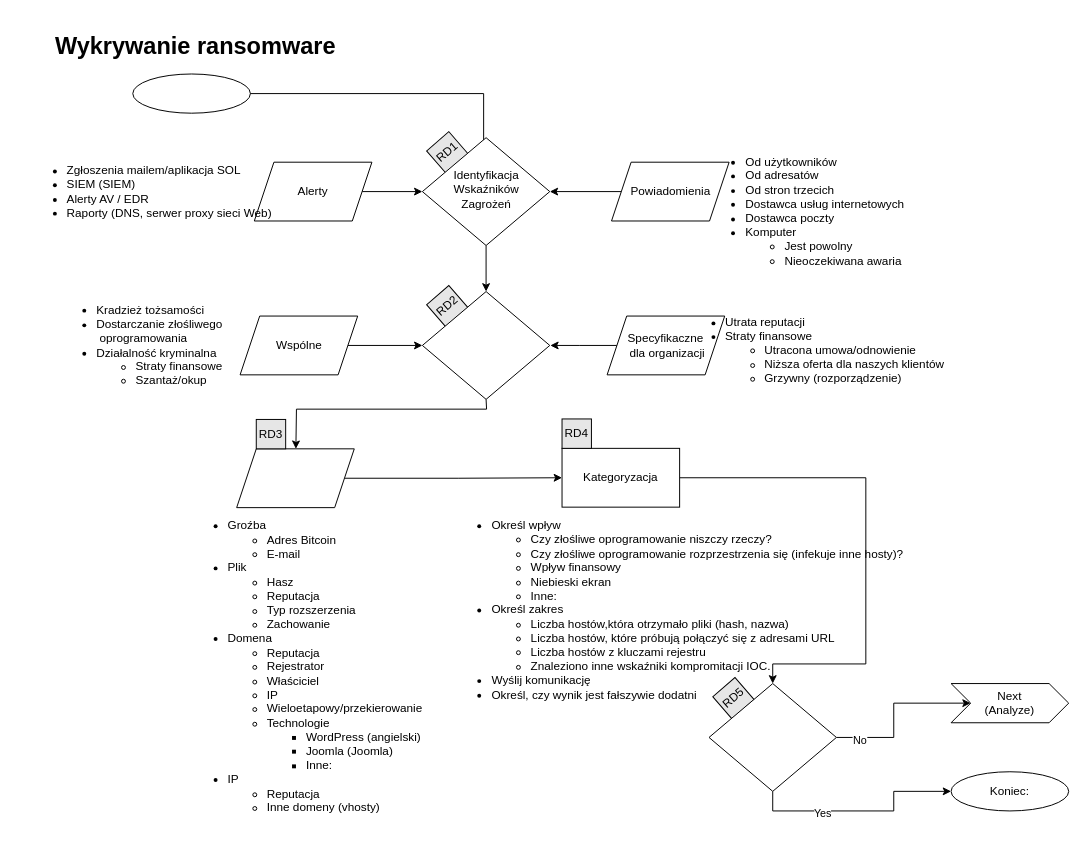
This 1086x861 diagram has some shape labels left out. The centre of each missing label's shape, as x and y in pixels:
"Identyfikacja czynników ryzyka" goes at (485,345).
"Start" goes at (191,93).
"Wynik fałszywie dodatni" goes at (772,737).
"Zbieranie danych" goes at (295,478).
